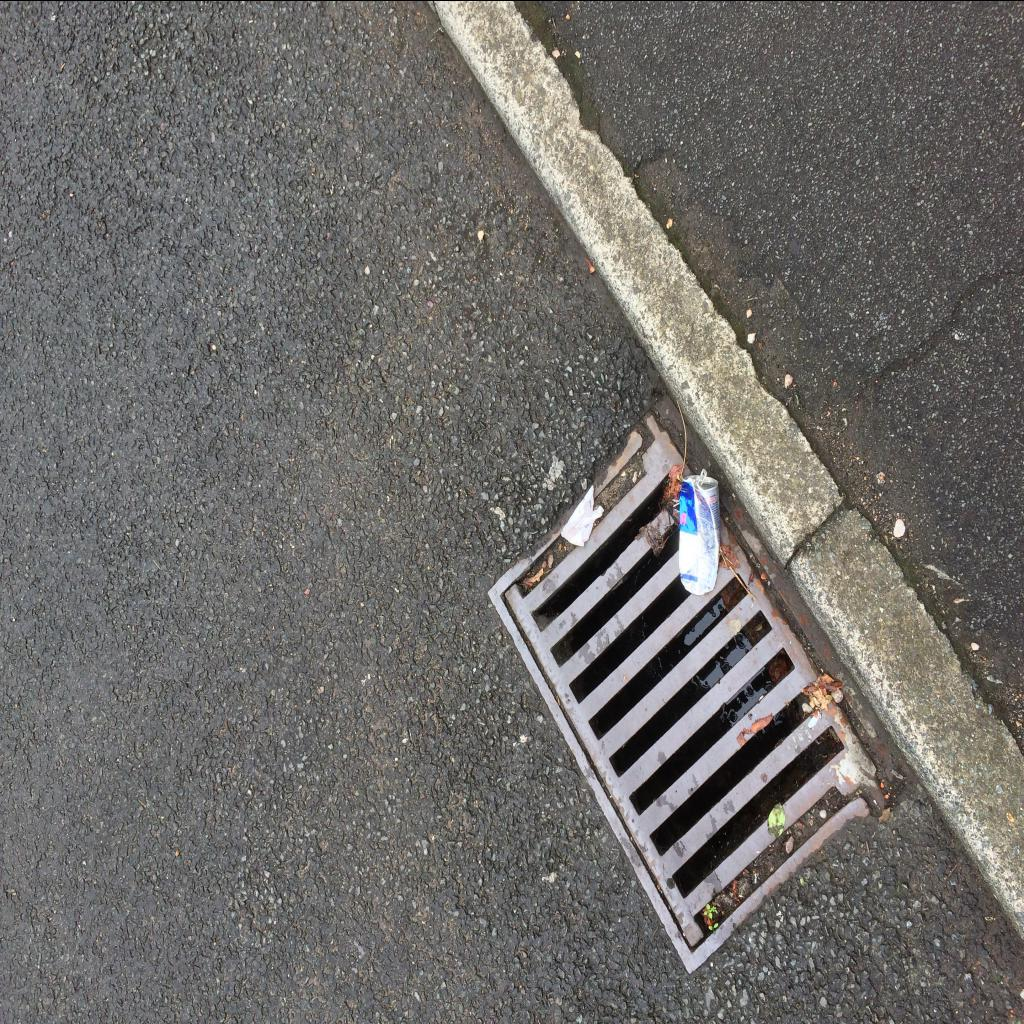Drink can: (678, 468, 720, 594)
Pop tab: (698, 468, 707, 484)
Unlabeled litter: (562, 484, 604, 546)
